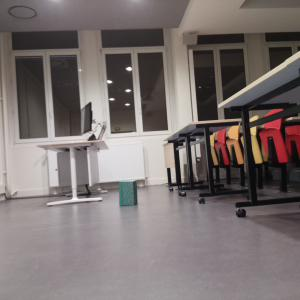small: (117, 178, 141, 209)
